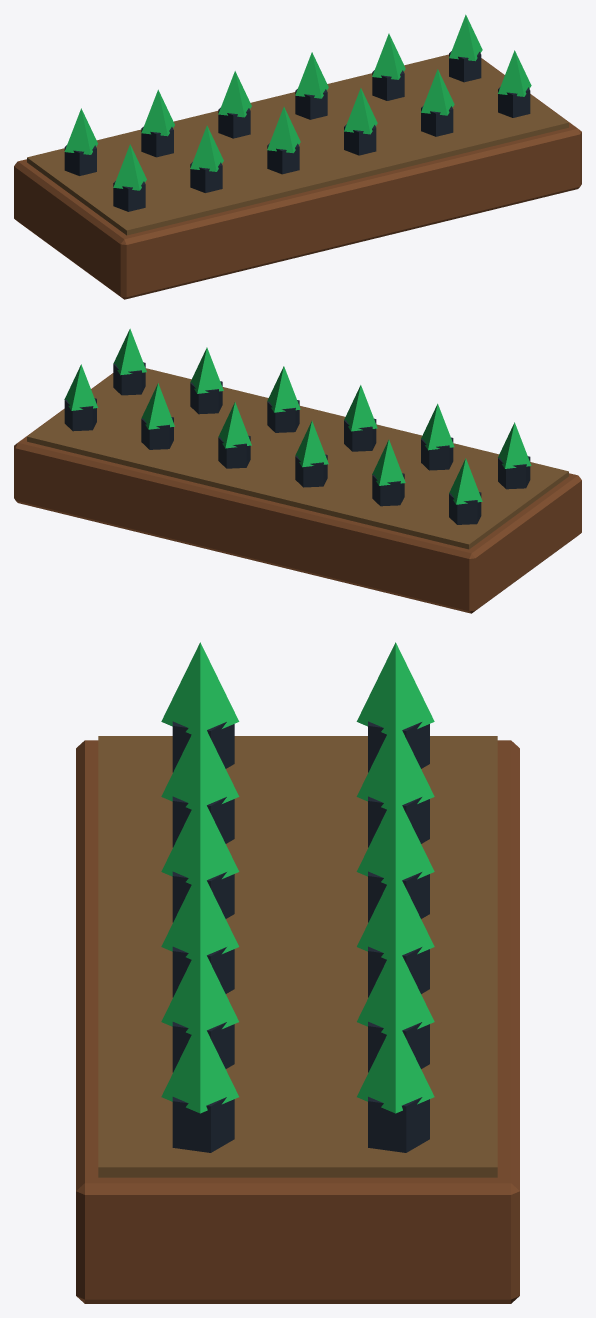
The model's file is bedengan_v001.glb.
3 renders of one model, top to bottom at view 1: azimuth 30°, elevation 25°; view 2: azimuth 150°, elevation 25°; view 3: azimuth 270°, elevation 25°, orthographic. The views are drawn at different scales.
Visible parts, largest first — view 1: Bedengan; view 2: Bedengan; view 3: Bedengan.
Boxes of the visible parts, <box> form: Bedengan: <box>14,14,581,299</box>; Bedengan: <box>14,328,581,613</box>; Bedengan: <box>76,642,519,1303</box>.
Bounding box in the file's own units: 2.4 × 0.628 × 1.
